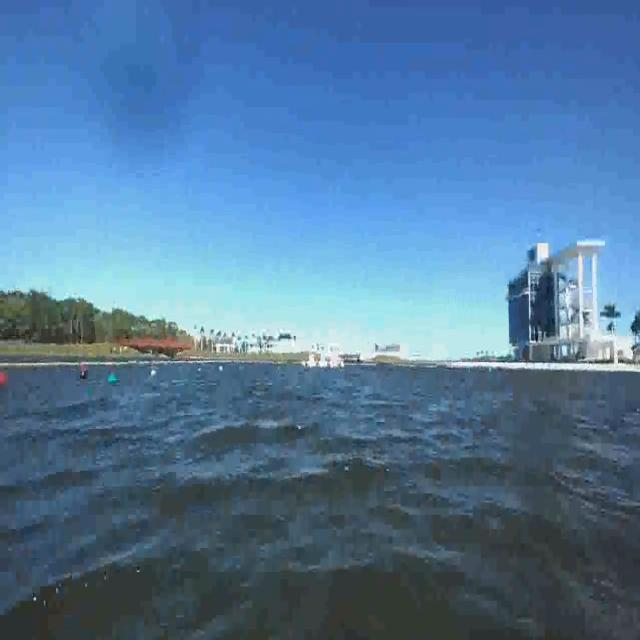green-buoy: (107, 373, 118, 382)
red-buoy: (0, 374, 9, 387)
